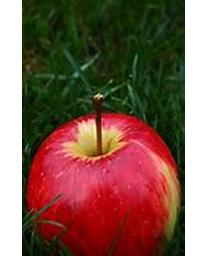apple: (24, 111, 181, 255)
